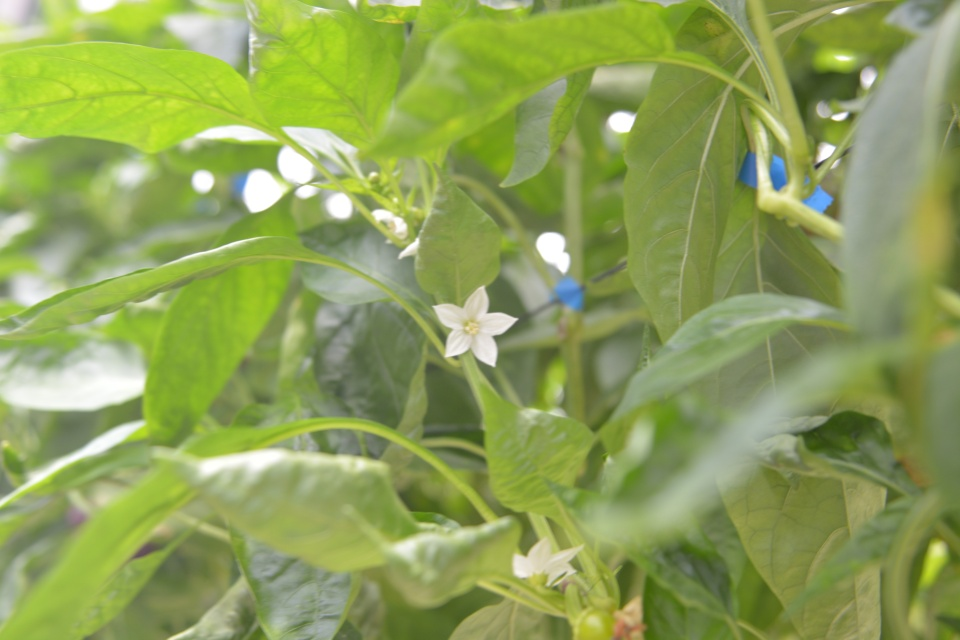flower: (430, 282, 520, 369), (511, 533, 586, 588)
